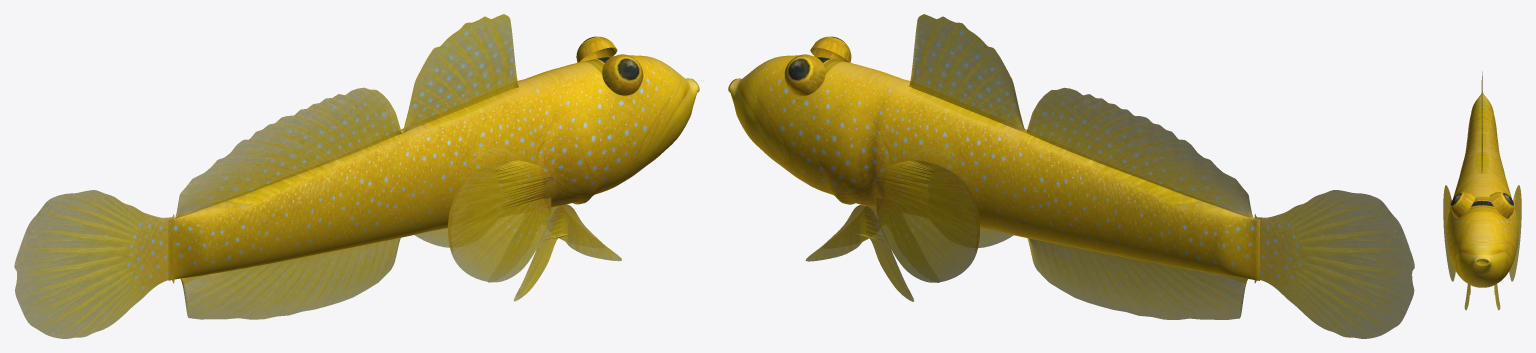
The model's file is cinctus-EWork8-f.glb.
3 views of the same model, side by side, from view 1: azimuth 30°, elevation 25°; view 2: azimuth 150°, elevation 25°; view 3: azimuth 270°, elevation 25° (orthographic). The views are drawn at different scales.
Parts seen in each view (by area): view 1: cinctus__body, cinctus__fin_1, cinctus__fin_0, cinctus__fin_2, cinctus__pectoral_1, cinctus__gill_1, cinctus__pelvic_1, cinctus__eye_1, cinctus__eye_-1; view 2: cinctus__body, cinctus__fin_1, cinctus__fin_0, cinctus__fin_2, cinctus__pectoral_-1, cinctus__gill_-1, cinctus__pelvic_-1, cinctus__eye_-1, cinctus__eye_1; view 3: cinctus__body, cinctus__pectoral_1, cinctus__pectoral_-1, cinctus__eye_1, cinctus__eye_-1, cinctus__fin_1, cinctus__pelvic_1, cinctus__pelvic_-1.
Part boxes in pixels (x1,y1,x2,y2): cinctus__body: (168, 55, 699, 280); cinctus__fin_1: (174, 14, 519, 219); cinctus__fin_0: (14, 190, 174, 338); cinctus__fin_2: (180, 238, 400, 319); cinctus__pectoral_1: (448, 160, 553, 282); cinctus__gill_1: (550, 104, 608, 206); cinctus__pelvic_1: (513, 204, 621, 301); cinctus__eye_1: (602, 54, 643, 95); cinctus__eye_-1: (576, 36, 617, 62); cinctus__body: (728, 55, 1259, 280); cinctus__fin_1: (909, 14, 1253, 218); cinctus__fin_0: (1254, 190, 1414, 338); cinctus__fin_2: (1027, 238, 1247, 319); cinctus__pectoral_-1: (874, 160, 979, 282); cinctus__gill_-1: (819, 104, 877, 206); cinctus__pelvic_-1: (805, 205, 914, 301); cinctus__eye_-1: (784, 54, 825, 95); cinctus__eye_1: (810, 36, 851, 62); cinctus__body: (1447, 91, 1517, 287); cinctus__pectoral_1: (1443, 185, 1455, 281); cinctus__pectoral_-1: (1509, 185, 1521, 281); cinctus__eye_1: (1451, 192, 1475, 218); cinctus__eye_-1: (1489, 192, 1513, 218); cinctus__fin_1: (1481, 71, 1482, 174); cinctus__pelvic_1: (1464, 284, 1470, 310); cinctus__pelvic_-1: (1494, 284, 1500, 310).
Size of the model in its own units: 1.3 by 0.5116 by 0.1869.
Materials: 5 (5 with a texture image).
